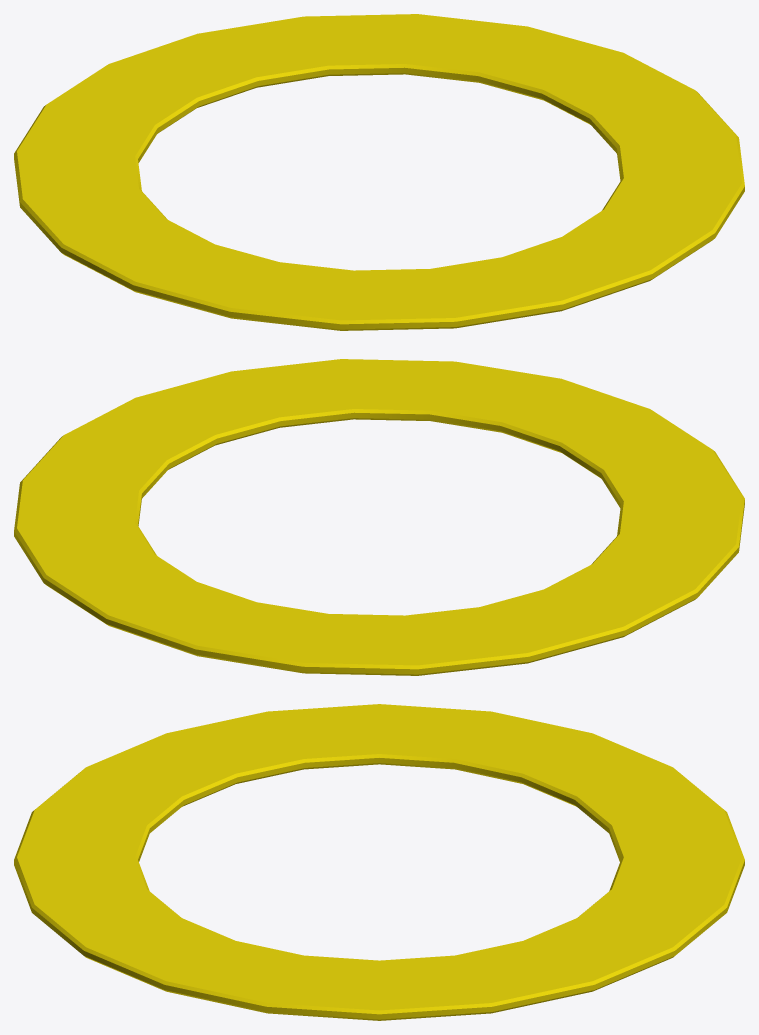
The picture shows the model from 3 angles, top to bottom: view 1: azimuth 30°, elevation 25°; view 2: azimuth 150°, elevation 25°; view 3: azimuth 270°, elevation 25°; orthographic projection.
Visible parts, largest first — view 1: Base; view 2: Base; view 3: Base.
Boxes of the visible parts, x1,y1,x2,y2 form: Base: (14, 14, 744, 330); Base: (14, 359, 744, 675); Base: (14, 704, 744, 1020).
Size of the model in its own units: 115 by 1.81 by 115.
